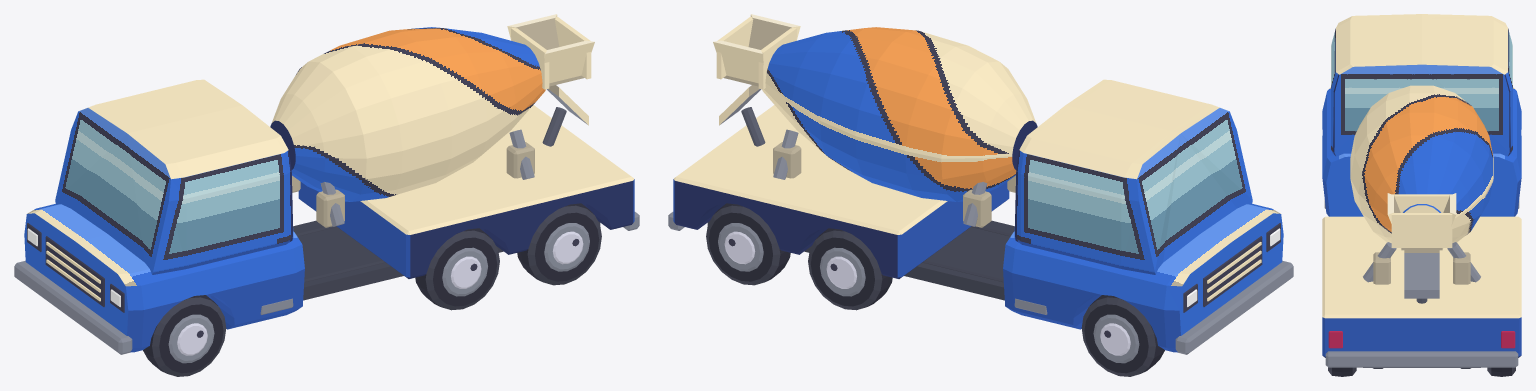
3 renders of one model, left to right at view 1: azimuth 30°, elevation 25°; view 2: azimuth 150°, elevation 25°; view 3: azimuth 270°, elevation 25°, orthographic. The views are drawn at different scales.
Visible parts, largest first — view 1: Body_static, Wheel_FL_tire_hub, Wheel_ML_tire_hub, Wheel_RL_tire_hub; view 2: Body_static, Wheel_FR_tire_hub, Wheel_MR_tire_hub, Wheel_RR_tire_hub; view 3: Body_static, Wheel_RL_tire_hub, Wheel_RR_tire_hub.
Boxes of the visible parts, x1,y1,x2,y2 form: Body_static: (14,14,639,354); Wheel_FL_tire_hub: (143,295,226,376); Wheel_ML_tire_hub: (415,228,499,310); Wheel_RL_tire_hub: (517,203,601,285); Body_static: (668,14,1293,354); Wheel_FR_tire_hub: (1081,295,1164,376); Wheel_MR_tire_hub: (808,228,892,310); Wheel_RR_tire_hub: (706,203,790,285); Body_static: (1322,14,1521,368); Wheel_RL_tire_hub: (1328,367,1356,376); Wheel_RR_tire_hub: (1487,367,1515,376).
Size of the model in its own units: 118 by 51.62 by 43.48.
1 material, 1 textured.
